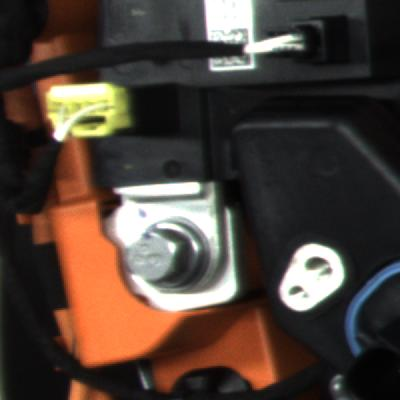nut_b: (120, 213, 212, 299)
